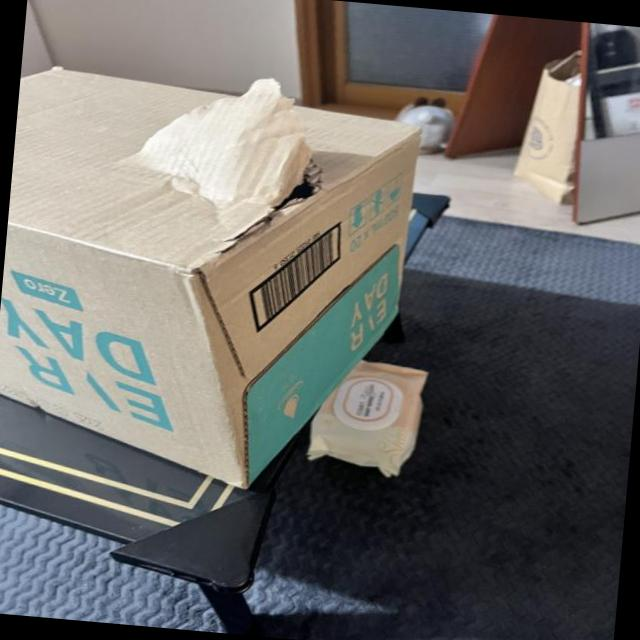box: (194, 98, 472, 355)
opened: (193, 98, 471, 309)
